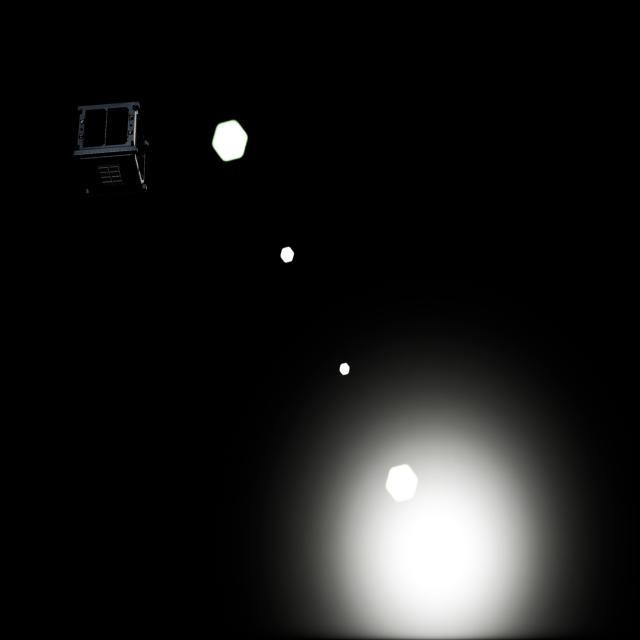medium_debris: (69, 95, 153, 197)
